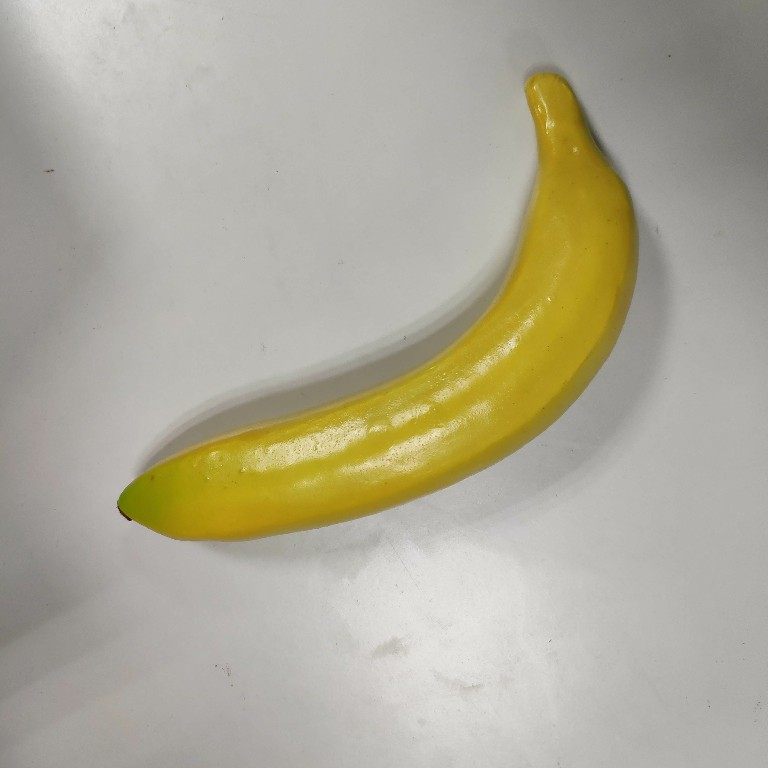fruit_banana: (112, 67, 643, 545)
